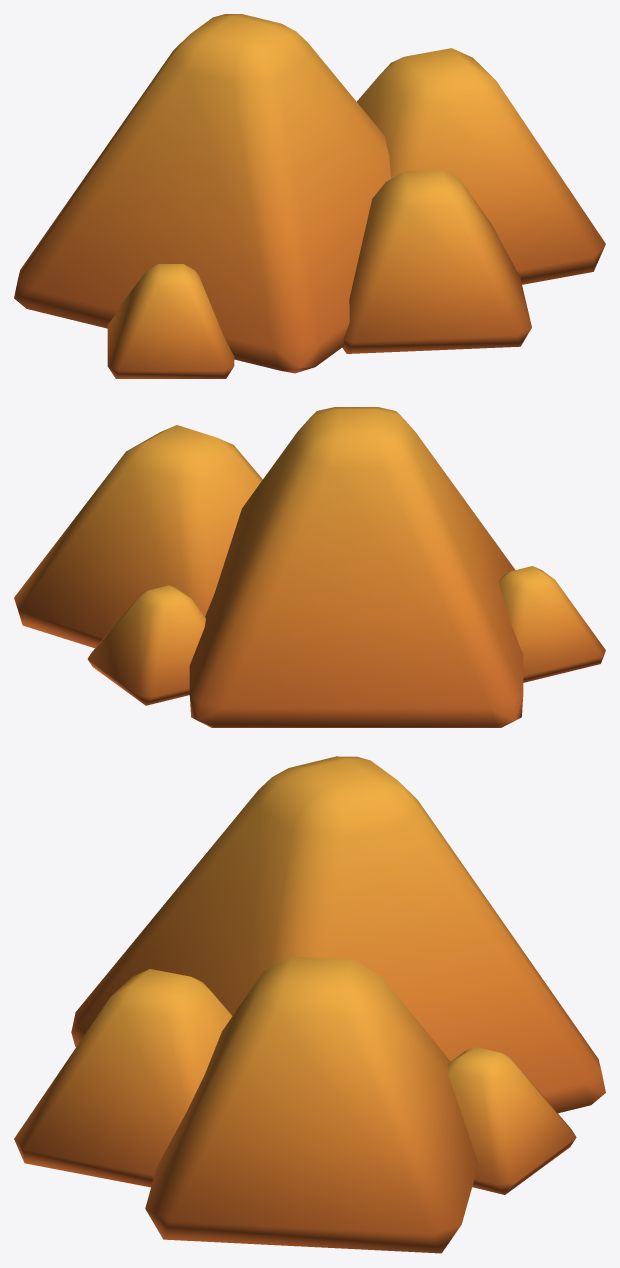
Rendered from bush_tall.gltf.
3 views of the same model, one above another, from view 1: azimuth 30°, elevation 25°; view 2: azimuth 150°, elevation 25°; view 3: azimuth 270°, elevation 25° (orthographic). The views are drawn at different scales.
Parts seen in each view (by area): view 1: Bush_4_E_Color1; view 2: Bush_4_E_Color1; view 3: Bush_4_E_Color1.
Part boxes in pixels (x1,y1,x2,y2): Bush_4_E_Color1: (14,14,605,378); Bush_4_E_Color1: (14,407,605,727); Bush_4_E_Color1: (14,756,605,1253).
Bounding box in the file's own units: 2.7 × 1.3 × 2.28.
Materials: 1 (1 with a texture image).
